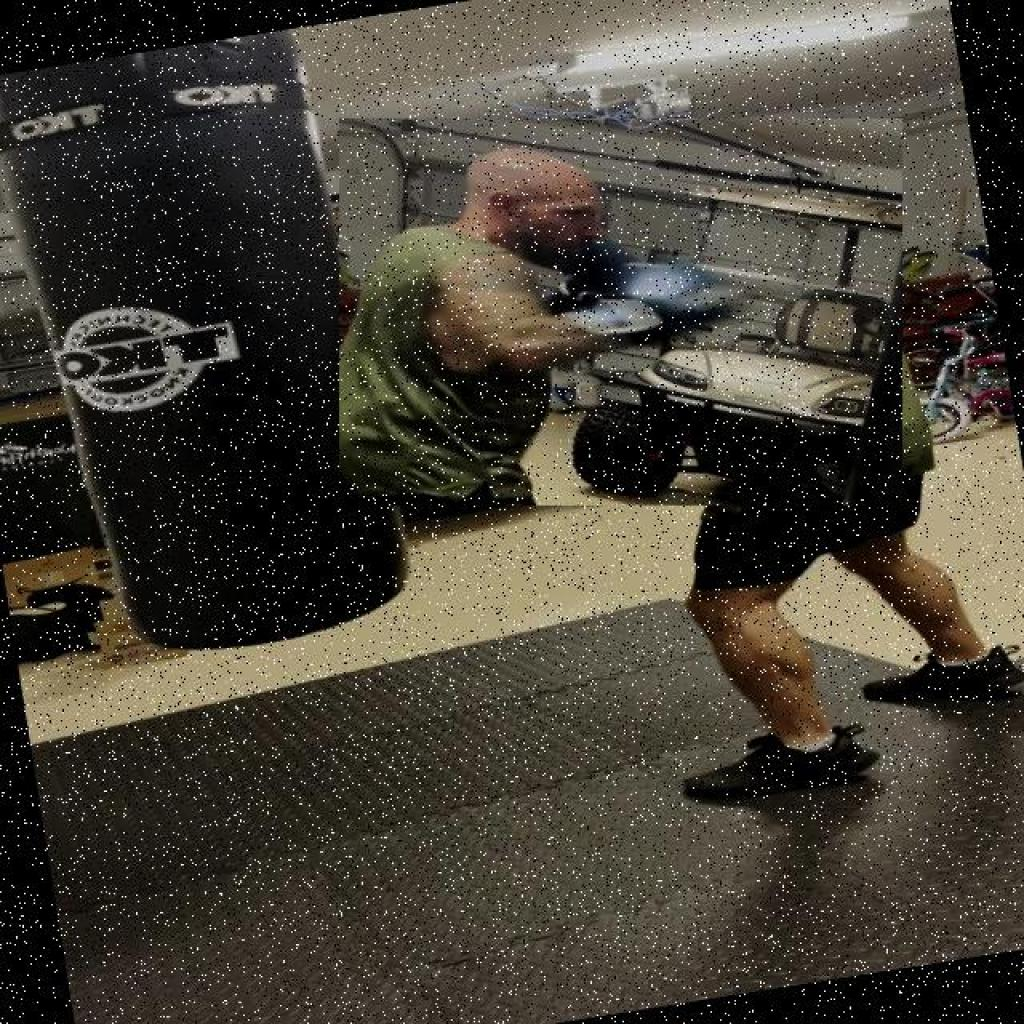uppercut: (339, 118, 903, 506)
